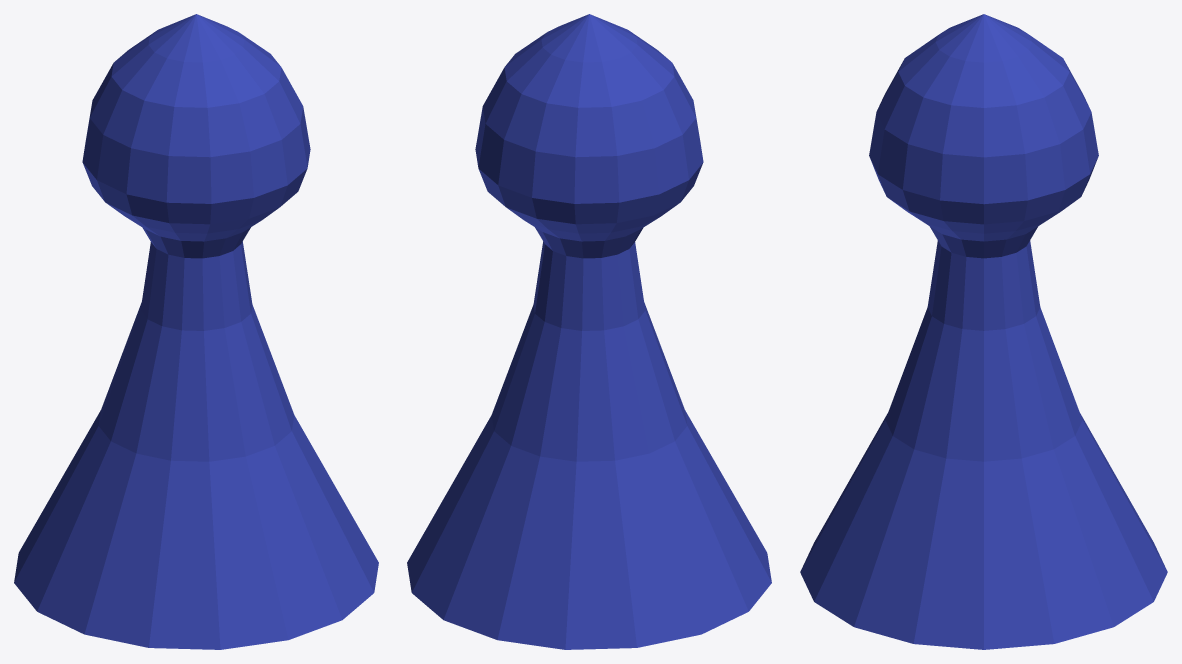
File: pawn.glb
The picture shows the model from 3 angles, left to right: view 1: azimuth 30°, elevation 25°; view 2: azimuth 150°, elevation 25°; view 3: azimuth 270°, elevation 25°; orthographic projection.
Visible parts, largest first — view 1: Cube; view 2: Cube; view 3: Cube.
Boxes of the visible parts, x1,y1,x2,y2 form: Cube: [14, 14, 378, 649]; Cube: [407, 14, 771, 649]; Cube: [800, 14, 1167, 649].
Bounding box in the file's own units: 2 × 3.35 × 2.
